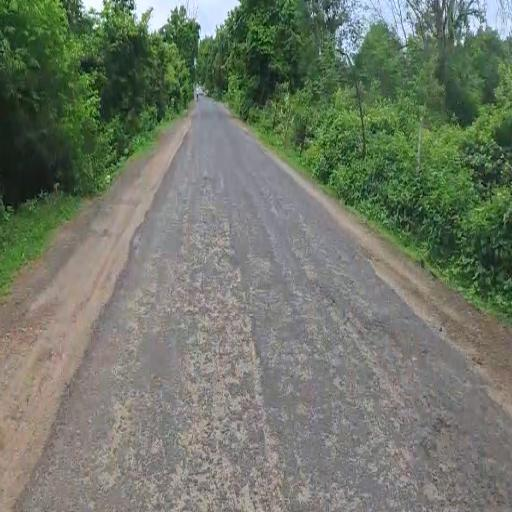edge_damage: (5, 242, 143, 484)
ravelling: (148, 216, 438, 489)
